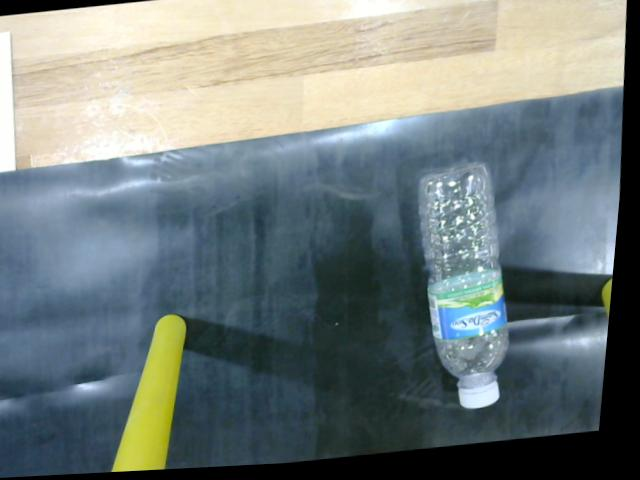bottle: (414, 157, 526, 424)
